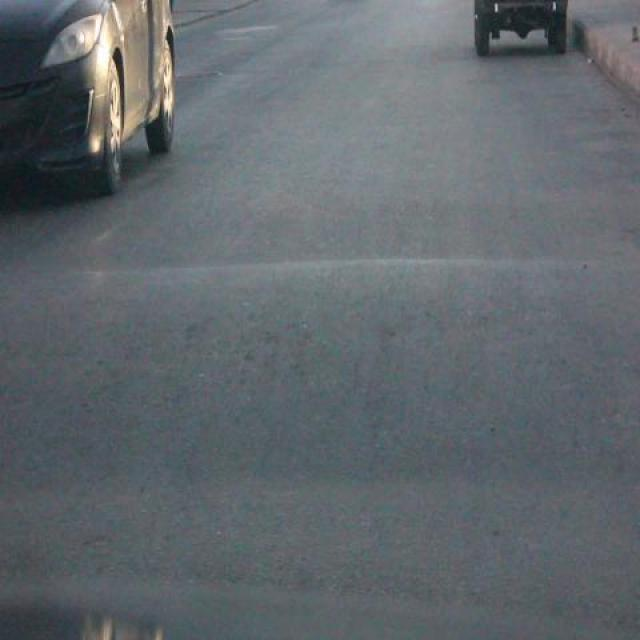Unmarked Bump: (0, 257, 639, 500)
